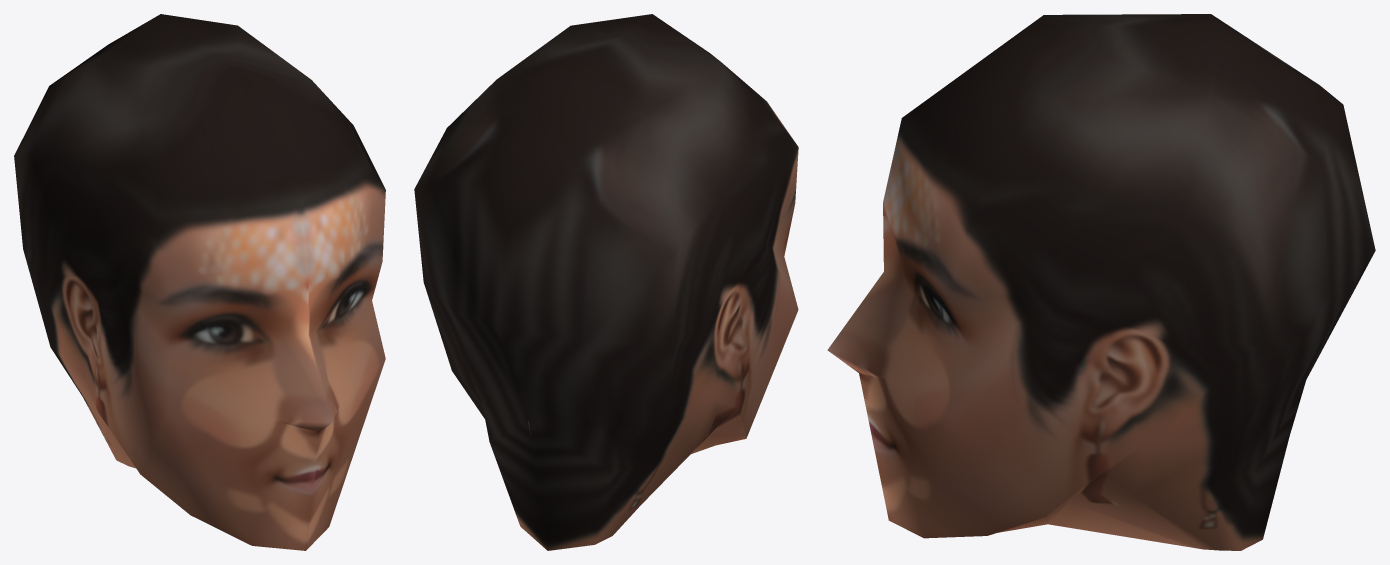
File: maya_f_head_1_n.dae
3 views of the same model, side by side, from view 1: azimuth 30°, elevation 25°; view 2: azimuth 150°, elevation 25°; view 3: azimuth 270°, elevation 25° (orthographic). The views are drawn at different scales.
Parts seen in each view (by area): view 1: maya_f_head_1_n; view 2: maya_f_head_1_n; view 3: maya_f_head_1_n.
Part boxes in pixels (box(x1,y1,x2,y2)): maya_f_head_1_n: box(14, 14, 385, 550); maya_f_head_1_n: box(414, 14, 798, 550); maya_f_head_1_n: box(827, 14, 1375, 550).
Bounding box in the file's own units: 0.3981 × 0.6199 × 0.6418.
